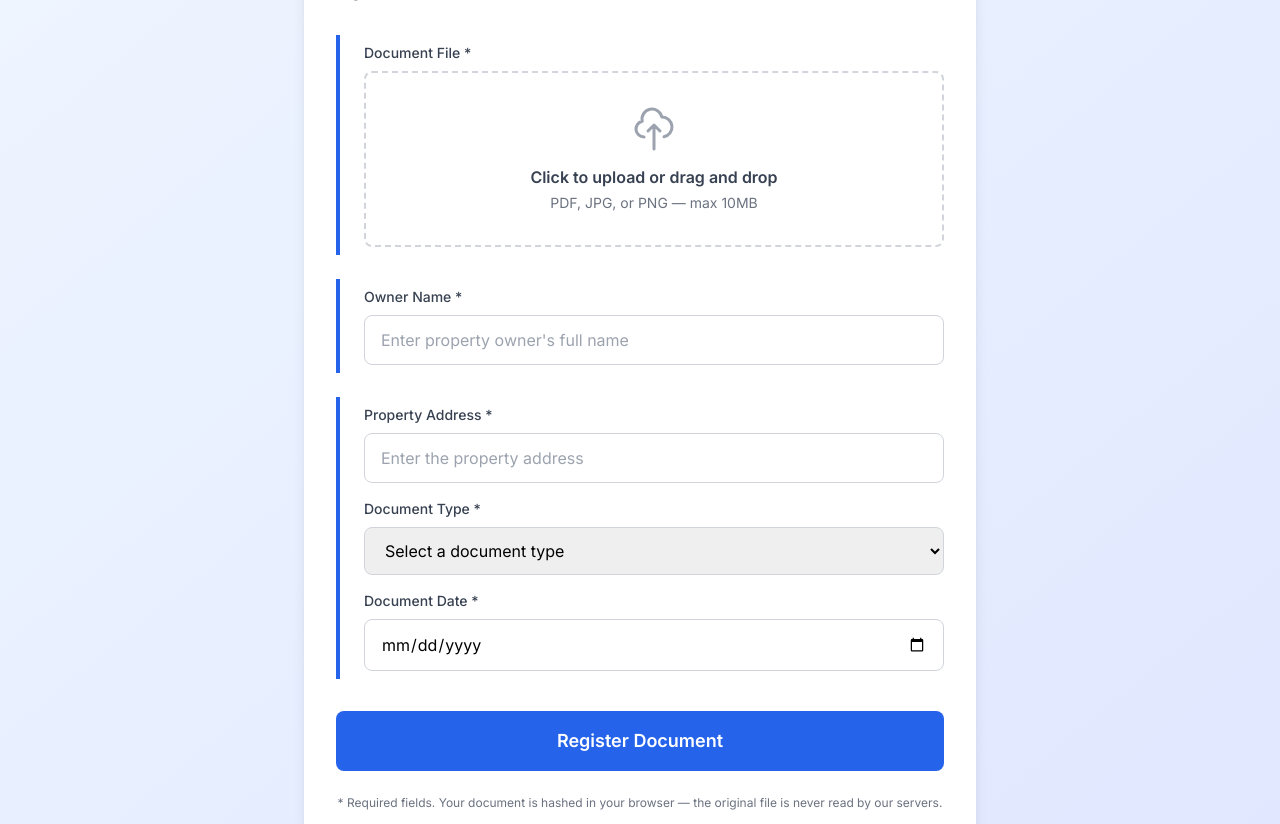
Test: UploadPage › Field Highlighting › should clear error highlighting when user corrects field
(page scrolled)
Note: Submit with empty fields to trigger validation
Click the button "Register Document" at (640, 741), box [336,711,944,771]
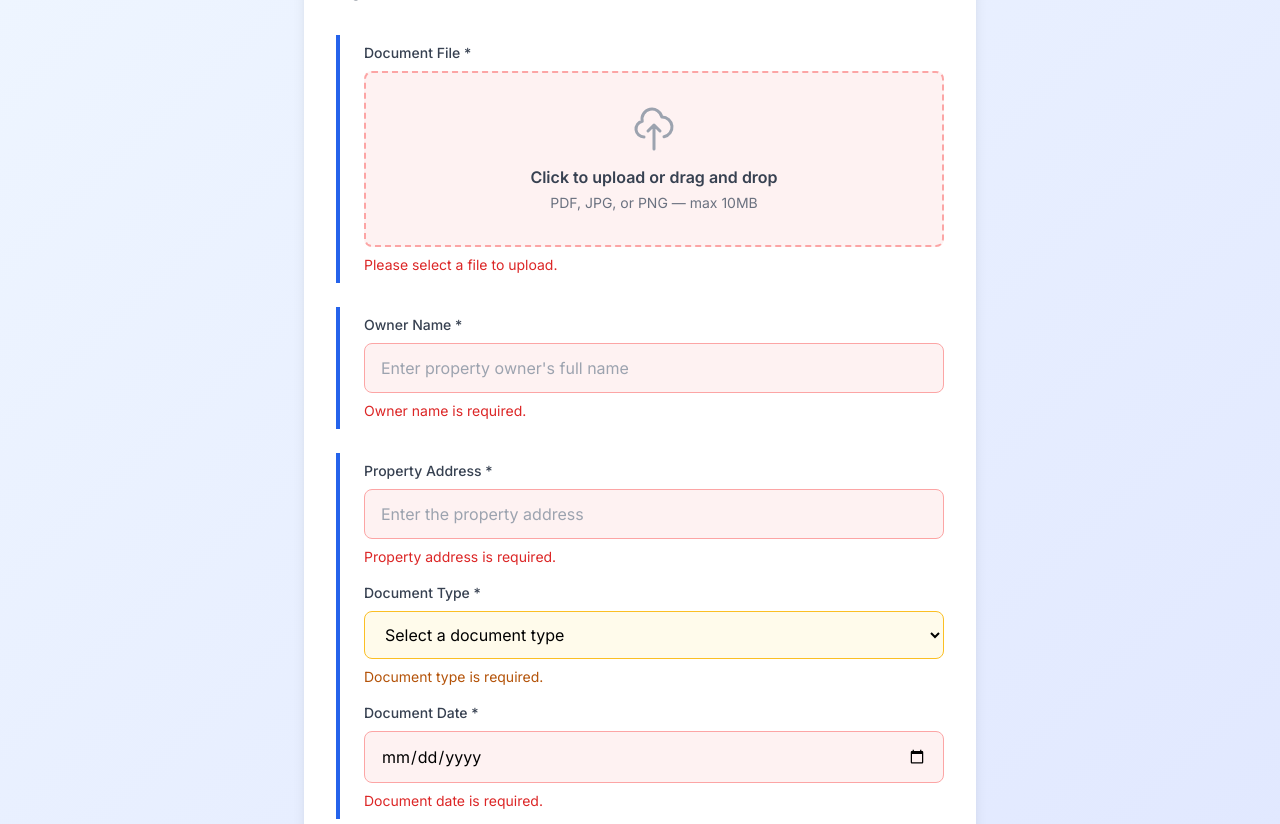
Check: the text "Owner name is required." is shown, box [364,402,526,419]
Note: Fill the field
Type "John Doe" into the field labelled "Owner Name *" at (654, 368), box [364,343,944,393]
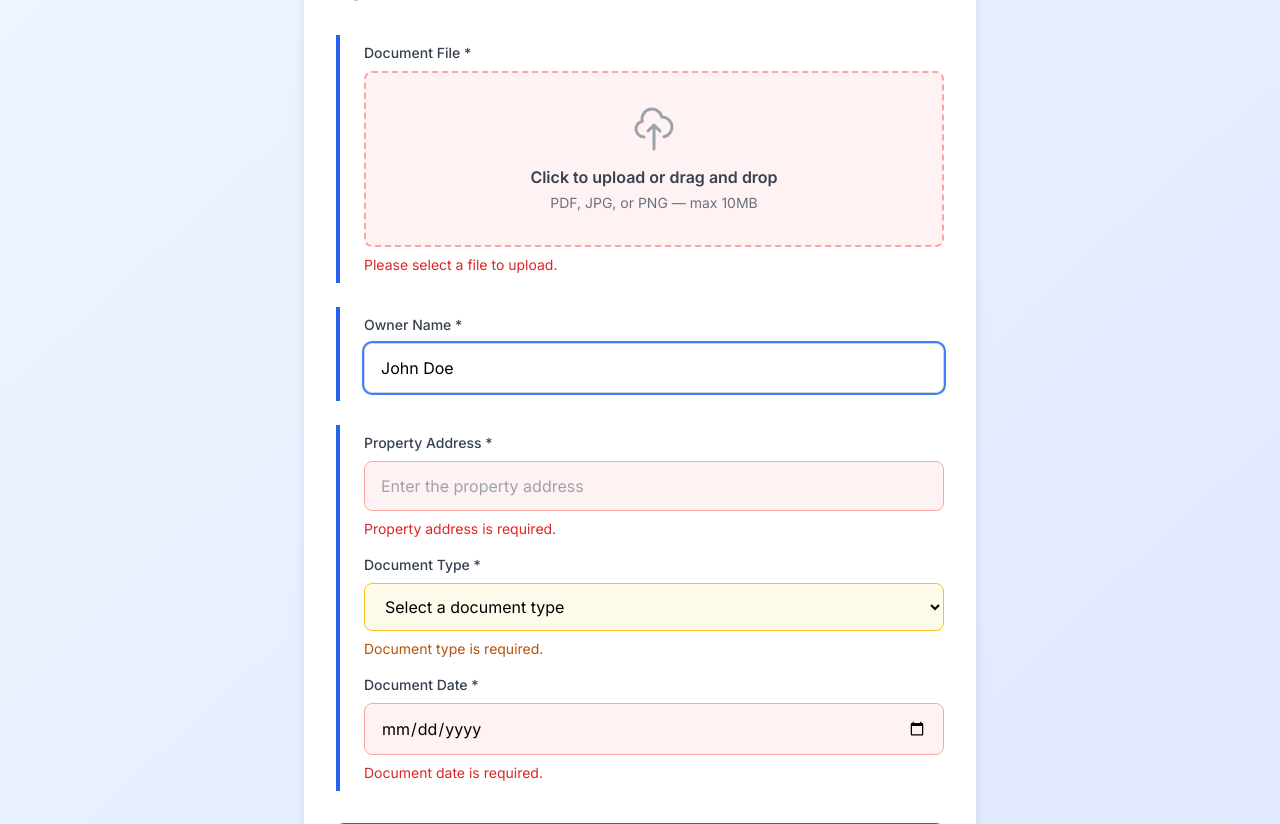
Check: the text "Owner name is required" is gone
